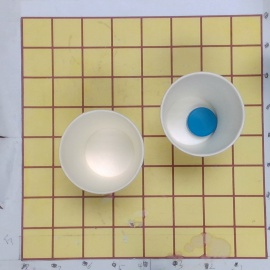cup: (59, 109, 147, 197)
cup_blue: (161, 72, 244, 159)
